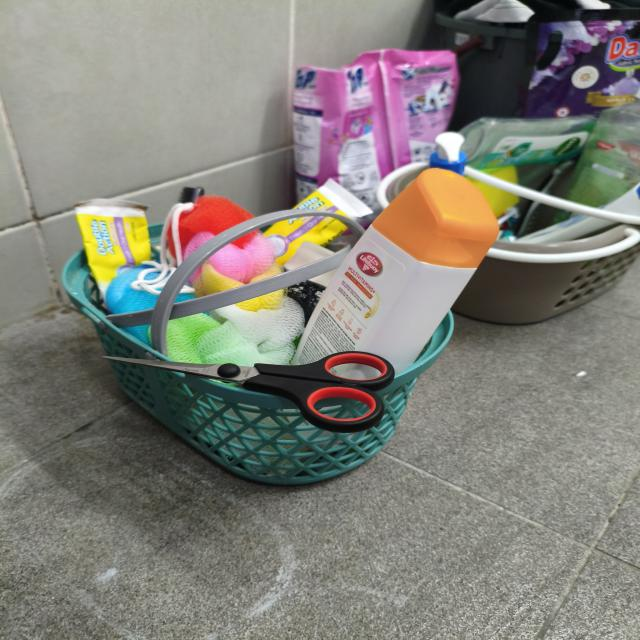scissor: (104, 351, 394, 433)
